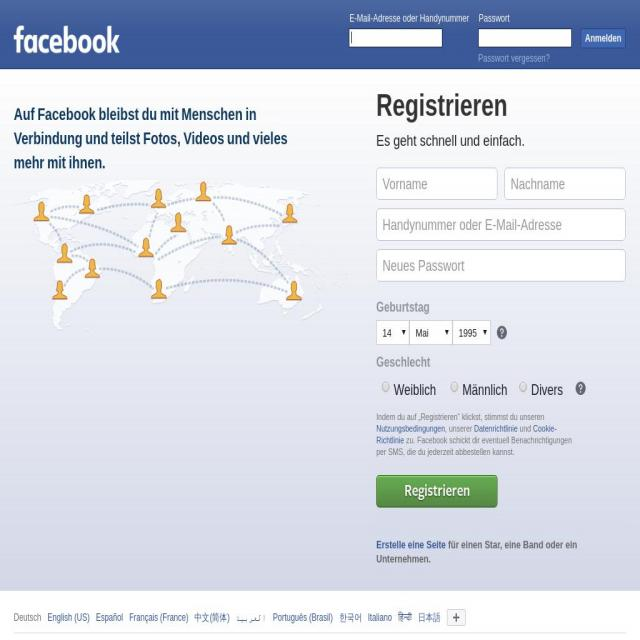button: (377, 474, 498, 508), (14, 19, 122, 56), (580, 29, 626, 48), (447, 609, 466, 626), (575, 382, 586, 398), (497, 325, 507, 342)
field: (376, 208, 626, 241), (376, 249, 626, 282), (504, 168, 626, 200), (377, 168, 498, 200), (348, 28, 442, 48), (478, 28, 572, 48), (410, 320, 452, 345), (452, 320, 490, 345), (376, 320, 409, 345), (518, 382, 528, 392), (450, 382, 459, 392), (382, 382, 390, 392)
